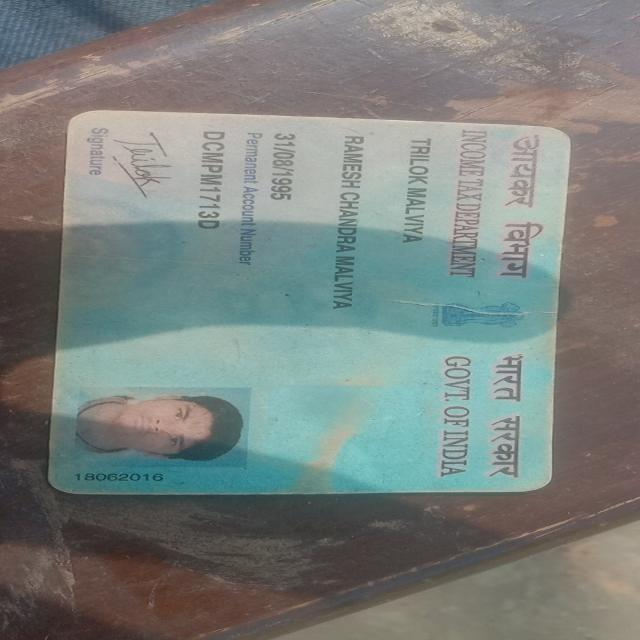pan_card: (59, 112, 567, 490)
